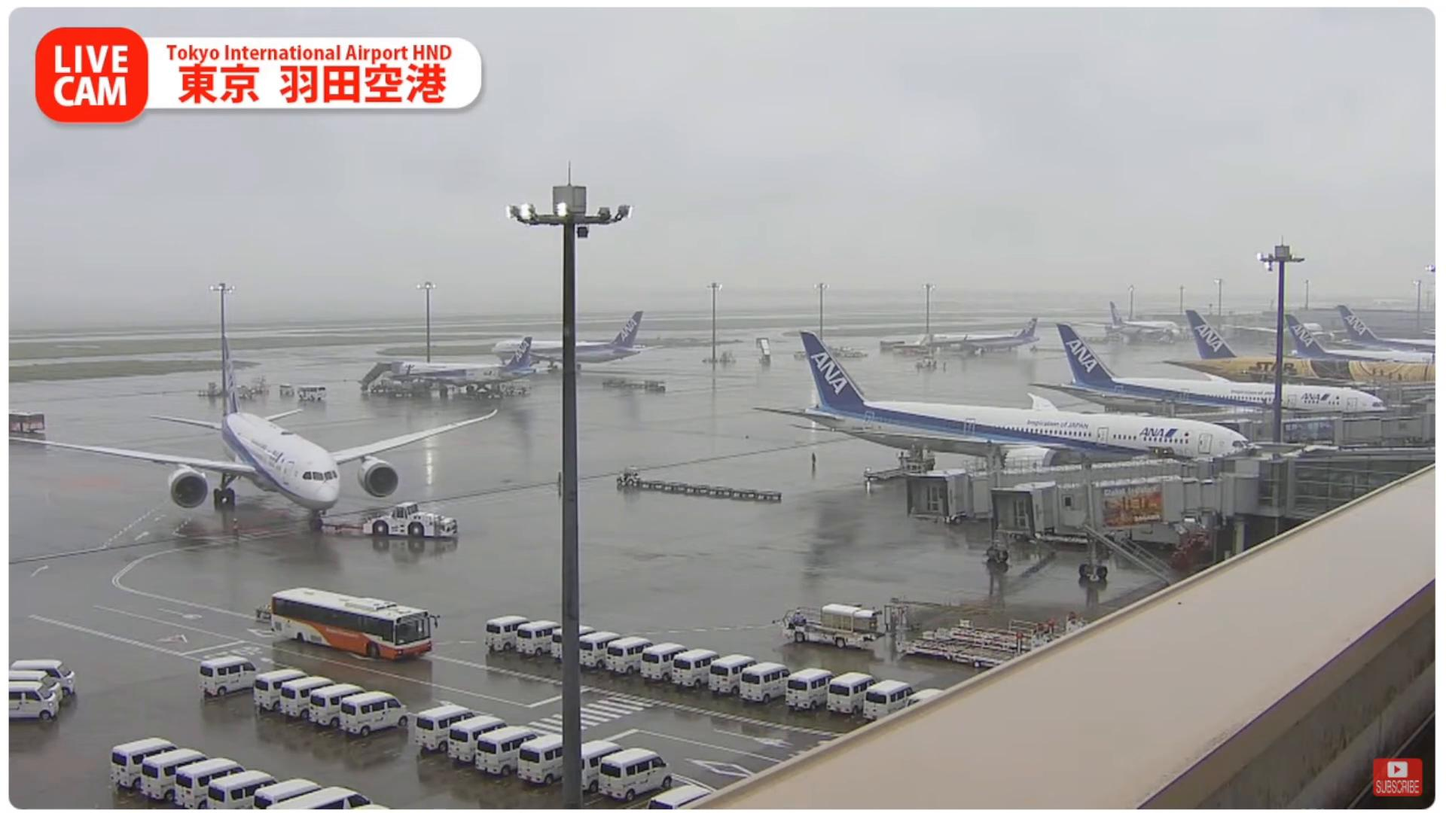APS: (361, 499, 459, 539)
Aerobridge: (907, 440, 1210, 564), (992, 450, 1263, 588)
Airplane: (11, 333, 500, 530)
Dolly: (638, 478, 782, 502)
JCPL: (896, 624, 1045, 669), (932, 616, 1091, 656)
Skyloader: (783, 601, 886, 649)
Tractor: (617, 467, 642, 488)
Window: (1294, 452, 1436, 515)
